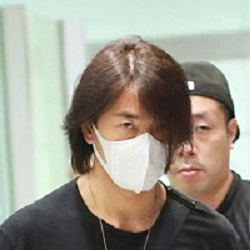mask: (88, 122, 172, 196)
